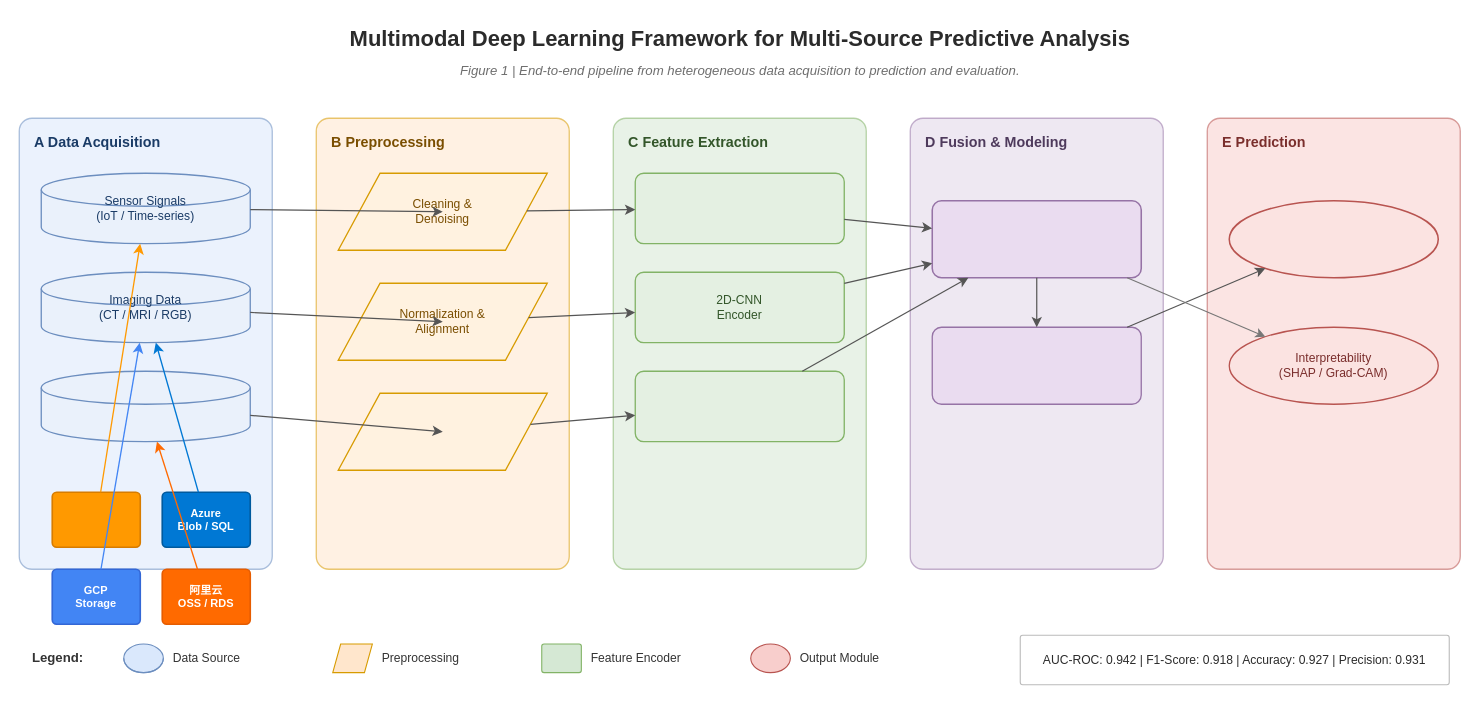
The diagram is 1481 pixels wide and 704 high, and some of its shapes have lost their labels. Each missing label, with the centre of its shape:
"1D-CNN Encoder" belongs at point (739, 208).
"Attention-based Feature Fusion" belongs at point (1036, 238).
"Augmentation" belongs at point (442, 431).
"AWS S3 / RDS" belongs at point (96, 519).
"Clinical Text (EHR / Reports)" belongs at point (145, 406).
"Deep Predictor (MLP Head)" belongs at point (1036, 365).
"Risk Score / Classification" belongs at point (1333, 238).
"Transformer Encoder" belongs at point (739, 406).
